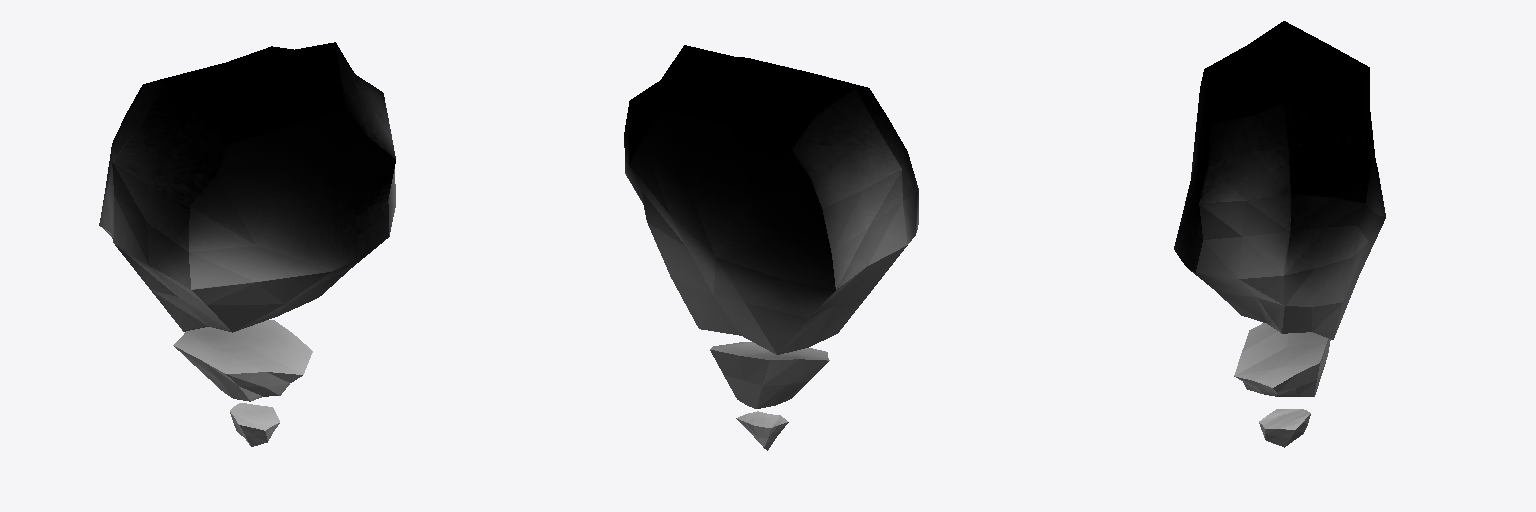
3 renders of one model, left to right at view 1: azimuth 30°, elevation 25°; view 2: azimuth 150°, elevation 25°; view 3: azimuth 270°, elevation 25°, orthographic.
Visible parts, largest first — view 1: Mesh (3); view 2: Mesh (3); view 3: Mesh (3).
Boxes of the visible parts, x1,y1,x2,y2 form: Mesh (3): [99, 42, 395, 446]; Mesh (3): [624, 45, 918, 450]; Mesh (3): [1174, 21, 1385, 447].
Bounding box in the file's own units: 1.89 × 2.46 × 1.23.
1 materials, 1 textured.